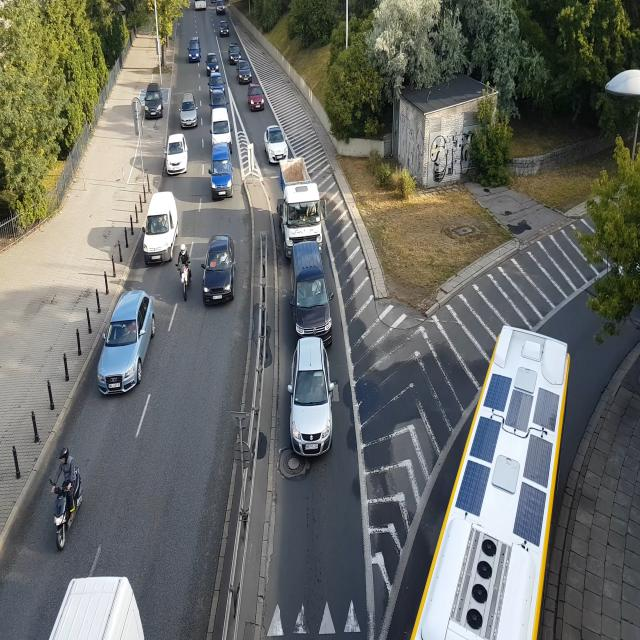bus: (427, 326, 565, 640), (193, 0, 206, 11)
car: (93, 288, 158, 394), (53, 573, 148, 640), (288, 340, 336, 464), (290, 244, 334, 338), (140, 190, 179, 264), (202, 234, 235, 317), (165, 124, 190, 168), (211, 150, 232, 200), (265, 124, 289, 162), (143, 85, 165, 120), (212, 108, 230, 146), (180, 95, 197, 129), (247, 82, 264, 110), (188, 36, 202, 65), (237, 60, 253, 84), (208, 68, 224, 88), (210, 90, 227, 108), (227, 40, 241, 60), (207, 50, 218, 68), (220, 19, 230, 37), (216, 0, 225, 14)
motorcycle: (47, 443, 85, 555), (176, 242, 190, 300)
truck: (277, 162, 325, 255)
